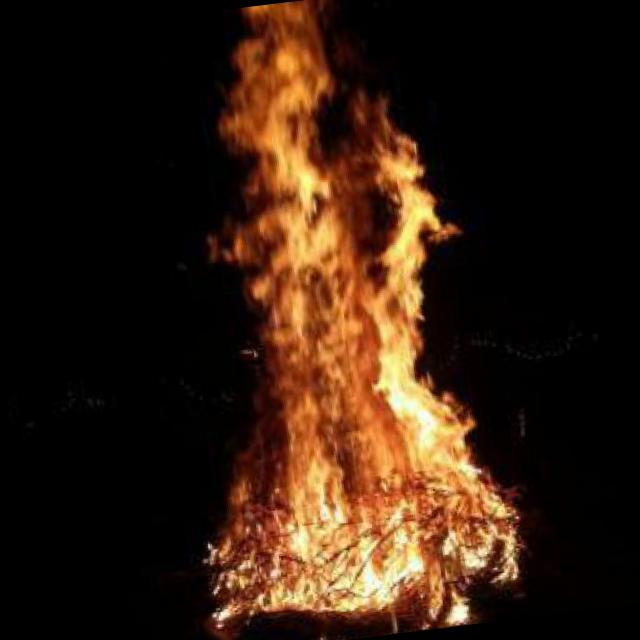fire: (128, 0, 532, 640)
